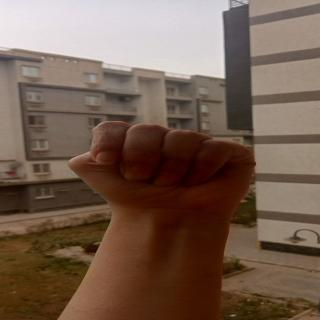SAD: (57, 112, 278, 220)
